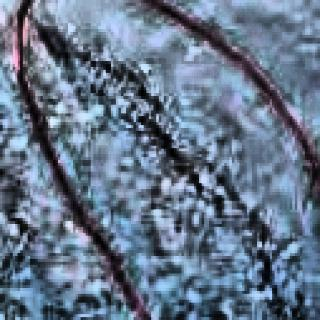crack: (32, 18, 206, 188)
